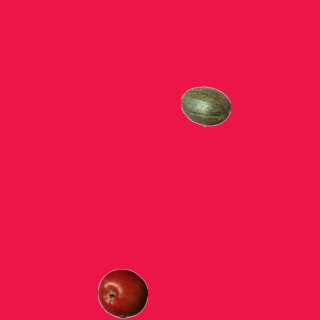Apple Braeburn: (97, 268, 147, 318)
Melon Piel de Sapo: (180, 81, 230, 131)
